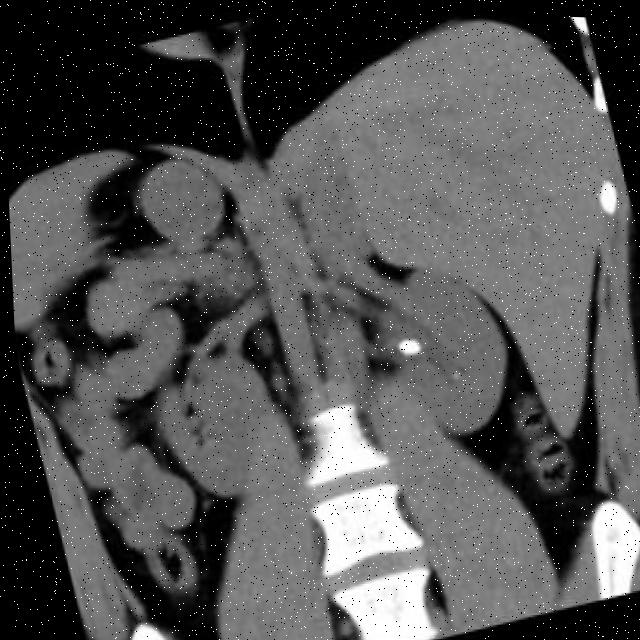Tas_Var: (386, 328, 421, 359), (444, 365, 456, 378)
